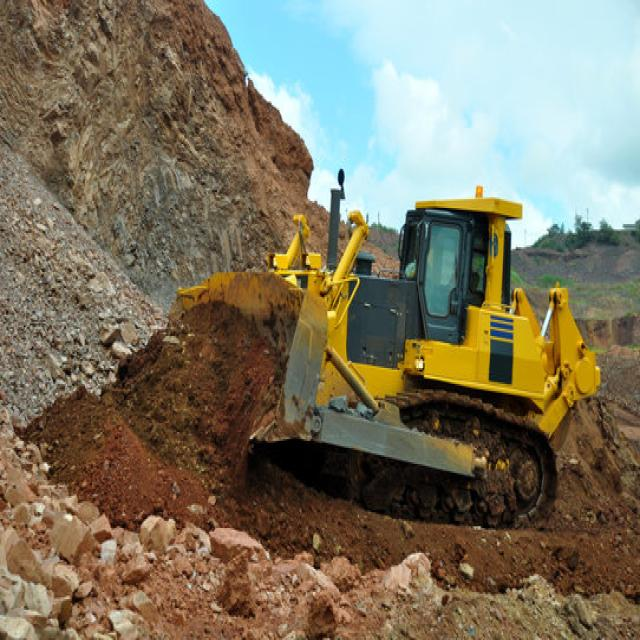buldozerpayloadergrader: (185, 171, 607, 546)
